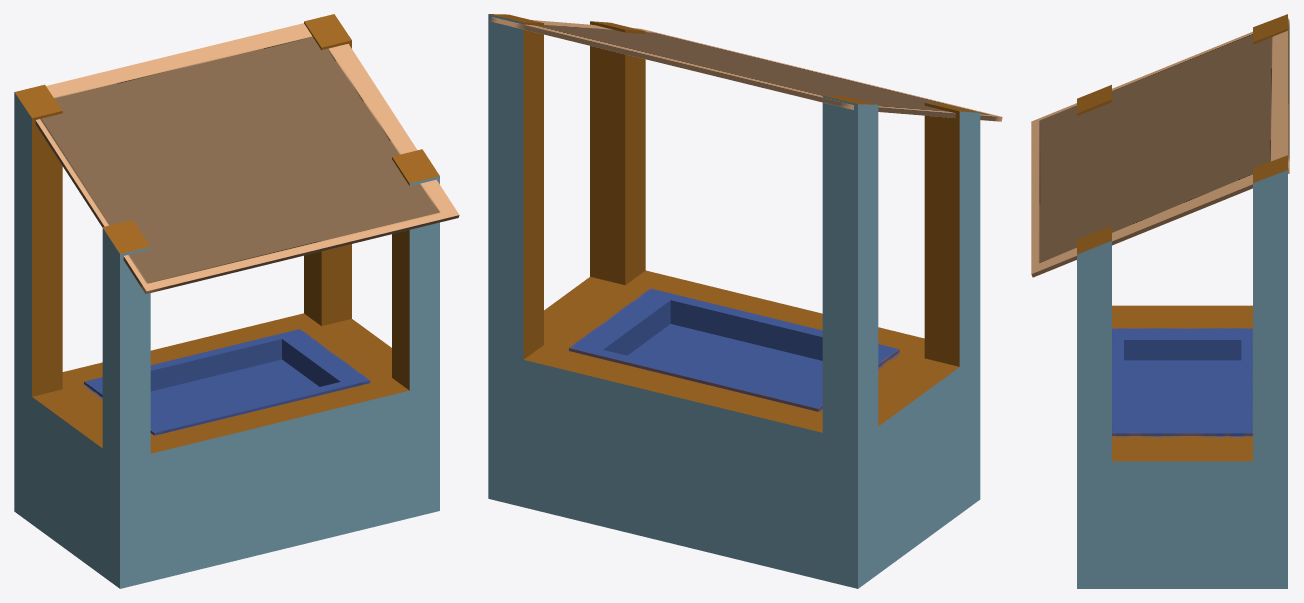
Rendered from Buffet_Table.glb.
3 renders of one model, left to right at view 1: azimuth 30°, elevation 25°; view 2: azimuth 150°, elevation 25°; view 3: azimuth 270°, elevation 25°, orthographic. The views are drawn at different scales.
Parts seen in each view (by area): view 1: Buffet_Table; view 2: Buffet_Table; view 3: Buffet_Table.
Boxes of the visible parts, bbox=[...] form: Buffet_Table: bbox=[14, 14, 459, 588]; Buffet_Table: bbox=[488, 14, 1002, 588]; Buffet_Table: bbox=[1031, 14, 1289, 588].
Size of the model in its own units: 2.62 by 3.29 by 1.84.
1 material, 1 textured.
